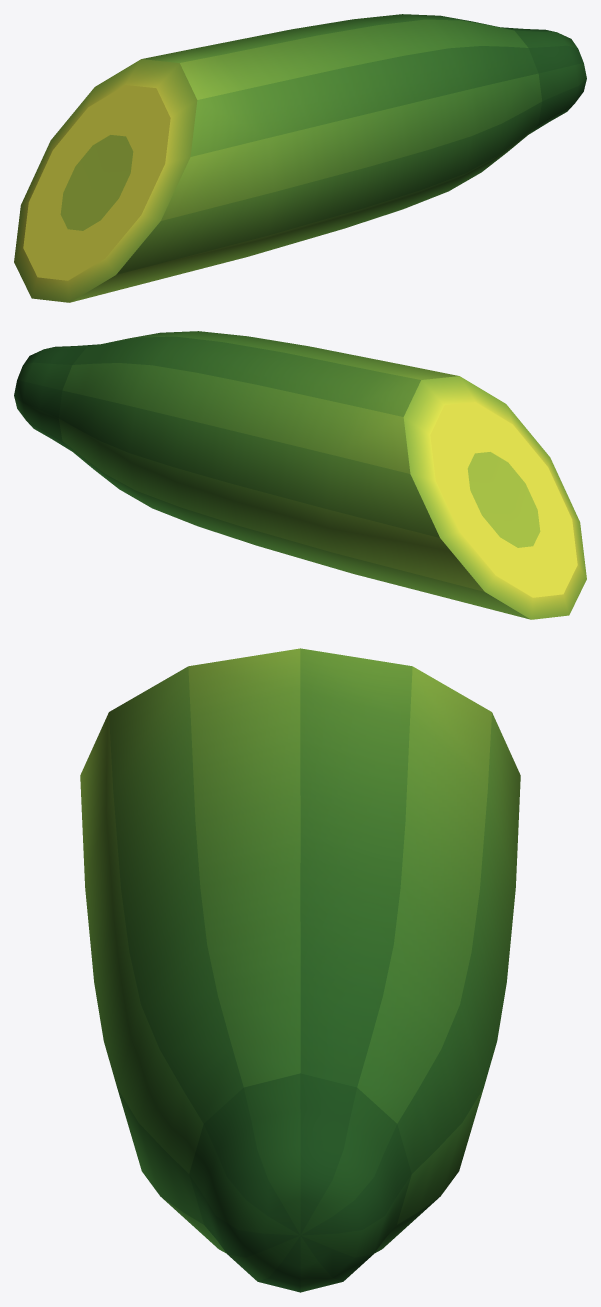
File: Cucumber_Slice_01.glb
3 renders of one model, top to bottom at view 1: azimuth 30°, elevation 25°; view 2: azimuth 150°, elevation 25°; view 3: azimuth 270°, elevation 25°, orthographic. The views are drawn at different scales.
Visible parts, largest first — view 1: Cucumber_Slice_01; view 2: Cucumber_Slice_01; view 3: Cucumber_Slice_01.
Boxes of the visible parts, x1,y1,x2,y2 form: Cucumber_Slice_01: [14, 14, 586, 302]; Cucumber_Slice_01: [14, 331, 586, 619]; Cucumber_Slice_01: [80, 648, 520, 1292].
Bounding box in the file's own units: 0.5664 × 0.1978 × 0.1981.
Materials: 1 (1 with a texture image).
